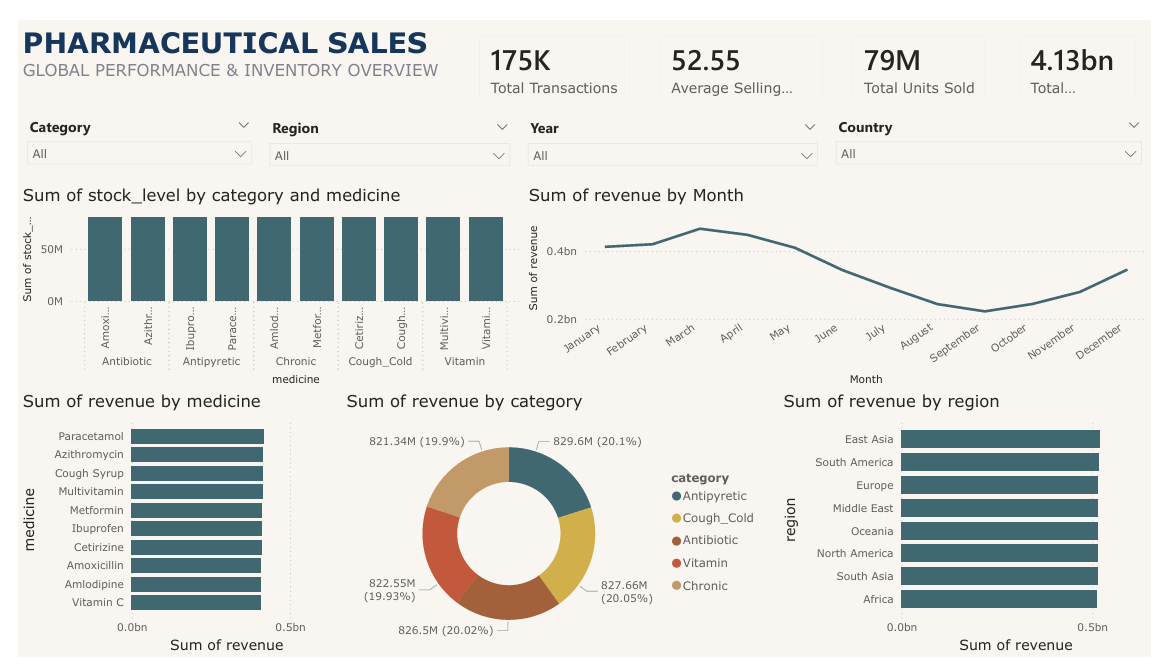

The dashboard page shown, as its layout file describes it:
{"tool":"powerbi","page":{"name":"Page 1","canvas":[1280,720],"ordinal":0},"visuals":[{"type":"textbox","box":[0,0,486,104],"z":0},{"type":"cardVisual","fields":{"Data":["global_pharmacy_sales_2020_2025_daily_dataset.Total Revenue"]},"box":[1114,0,166,104],"z":1000},{"type":"cardVisual","fields":{"Data":["global_pharmacy_sales_2020_2025_daily_dataset.Total Transactions"]},"box":[504,0,204,104],"z":2000},{"type":"cardVisual","fields":{"Data":["global_pharmacy_sales_2020_2025_daily_dataset.Total Units Sold"]},"box":[926,0,184,104],"z":3000},{"type":"cardVisual","fields":{"Data":["global_pharmacy_sales_2020_2025_daily_dataset.Average Selling Price"]},"box":[708,0,218,104],"z":4000},{"type":"lineChart","fields":{"Category":["global_pharmacy_sales_2020_2025_daily_dataset.date.Variation.Date Hierarchy.Month"],"Y":["Sum(global_pharmacy_sales_2020_2025_daily_dataset.revenue)"]},"box":[572,186,708,232],"z":5000},{"type":"slicer","fields":{"Values":["global_pharmacy_sales_2020_2025_daily_dataset.year"]},"box":[566,106,348,78],"z":6000},{"type":"slicer","fields":{"Values":["global_pharmacy_sales_2020_2025_daily_dataset.region"]},"box":[274,106,292,76],"z":7000},{"type":"slicer","fields":{"Values":["global_pharmacy_sales_2020_2025_daily_dataset.country"]},"box":[914,104,366,76],"z":8000},{"type":"slicer","fields":{"Values":["global_pharmacy_sales_2020_2025_daily_dataset.category"]},"box":[0,104,274,78],"z":9000},{"type":"barChart","fields":{"Y":["Sum(global_pharmacy_sales_2020_2025_daily_dataset.revenue)"],"Category":["global_pharmacy_sales_2020_2025_daily_dataset.region"]},"box":[860,418,420,302],"z":10000},{"type":"donutChart","fields":{"Y":["Sum(global_pharmacy_sales_2020_2025_daily_dataset.revenue)"],"Category":["global_pharmacy_sales_2020_2025_daily_dataset.category"]},"box":[366,418,480,302],"z":11000},{"type":"barChart","fields":{"Category":["global_pharmacy_sales_2020_2025_daily_dataset.medicine"],"Y":["Sum(global_pharmacy_sales_2020_2025_daily_dataset.revenue)"]},"box":[0,418,366,302],"z":12000},{"type":"columnChart","fields":{"Category":["global_pharmacy_sales_2020_2025_daily_dataset.category","global_pharmacy_sales_2020_2025_daily_dataset.medicine"],"Y":["Sum(global_pharmacy_sales_2020_2025_daily_dataset.stock_level)"]},"box":[0,186,572,232],"z":14000}]}

Visuals, with their boxes in screenshot pixels (x1, y1, x2, y2), scaled from the page's 1280x720 canvas onto the 1167x670 screenshot:
textbox: <bbox>0, 0, 443, 97</bbox>
cardVisual - global_pharmacy_sales_2020_2025_daily_dataset.Total Revenue: <bbox>1016, 0, 1166, 97</bbox>
cardVisual - global_pharmacy_sales_2020_2025_daily_dataset.Total Transactions: <bbox>460, 0, 645, 97</bbox>
cardVisual - global_pharmacy_sales_2020_2025_daily_dataset.Total Units Sold: <bbox>844, 0, 1012, 97</bbox>
cardVisual - global_pharmacy_sales_2020_2025_daily_dataset.Average Selling Price: <bbox>645, 0, 844, 97</bbox>
lineChart - global_pharmacy_sales_2020_2025_daily_dataset.date.Variation.Date Hierarchy.Month x Sum(global_pharmacy_sales_2020_2025_daily_dataset.revenue): <bbox>522, 173, 1166, 389</bbox>
slicer - global_pharmacy_sales_2020_2025_daily_dataset.year: <bbox>516, 99, 833, 171</bbox>
slicer - global_pharmacy_sales_2020_2025_daily_dataset.region: <bbox>250, 99, 516, 169</bbox>
slicer - global_pharmacy_sales_2020_2025_daily_dataset.country: <bbox>833, 97, 1166, 168</bbox>
slicer - global_pharmacy_sales_2020_2025_daily_dataset.category: <bbox>0, 97, 250, 169</bbox>
barChart - Sum(global_pharmacy_sales_2020_2025_daily_dataset.revenue) x global_pharmacy_sales_2020_2025_daily_dataset.region: <bbox>784, 389, 1166, 669</bbox>
donutChart - Sum(global_pharmacy_sales_2020_2025_daily_dataset.revenue) x global_pharmacy_sales_2020_2025_daily_dataset.category: <bbox>334, 389, 771, 669</bbox>
barChart - global_pharmacy_sales_2020_2025_daily_dataset.medicine x Sum(global_pharmacy_sales_2020_2025_daily_dataset.revenue): <bbox>0, 389, 334, 669</bbox>
columnChart - global_pharmacy_sales_2020_2025_daily_dataset.category x global_pharmacy_sales_2020_2025_daily_dataset.medicine: <bbox>0, 173, 522, 389</bbox>
